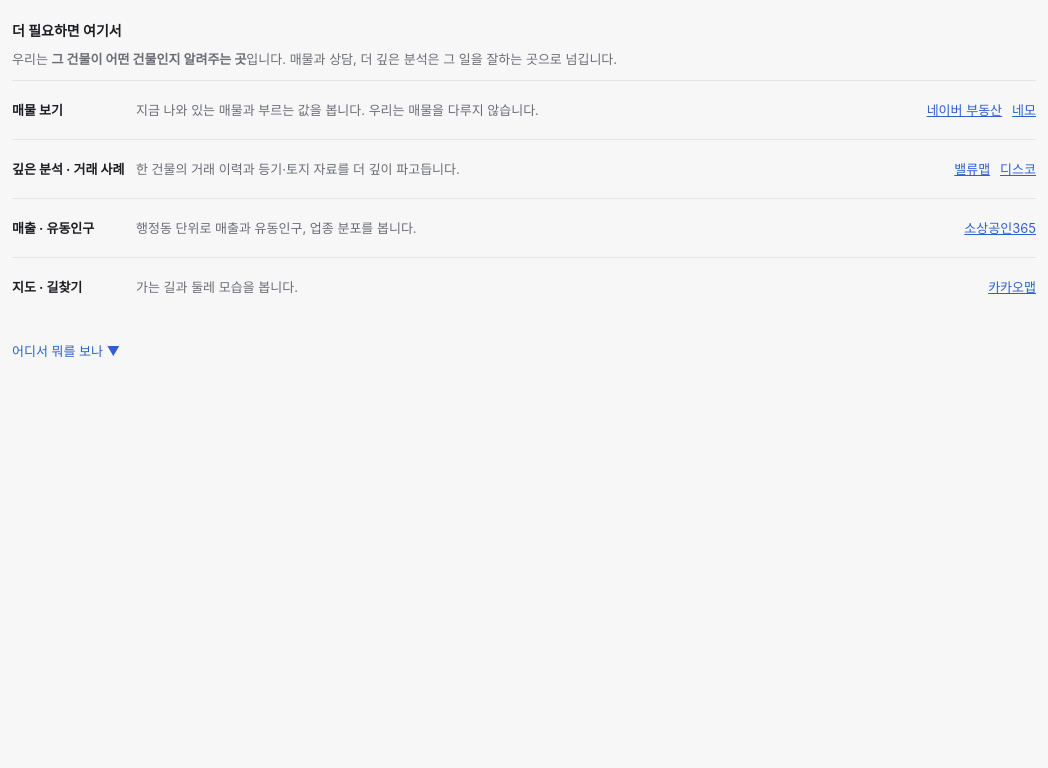
HandoffLinks — 접힌 "어디서 뭐를 보나" › ★ 펼치면 카드 제목이 SECTION_PLAN 대로 전부 나온다 (손으로 적은 목록이 아니다)
Click the button "어디서 뭐를 보나 ▼".
click(66, 350)  # box 12,328 -> 120,372
(page scrolled)
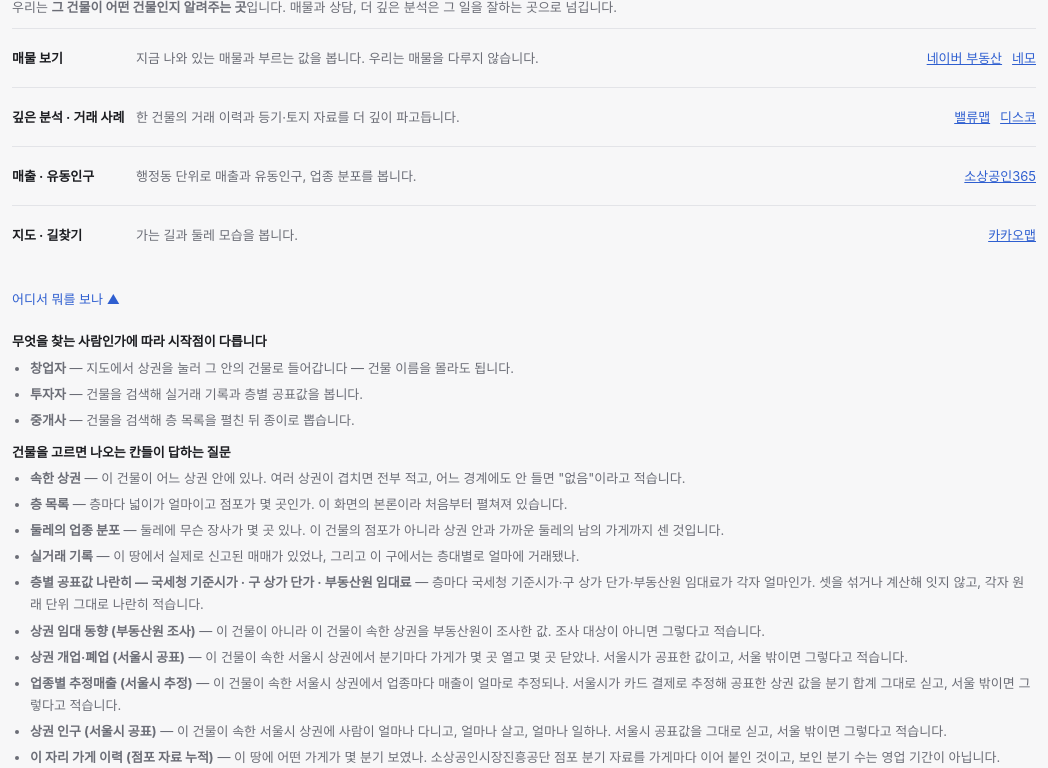
Now the text "속한 상권" is shown, box 30,470 -> 81,486
Now the text "층 목록" is shown, box 30,496 -> 69,512
Now the text "둘레의 업종 분포" is shown, box 30,522 -> 120,538
